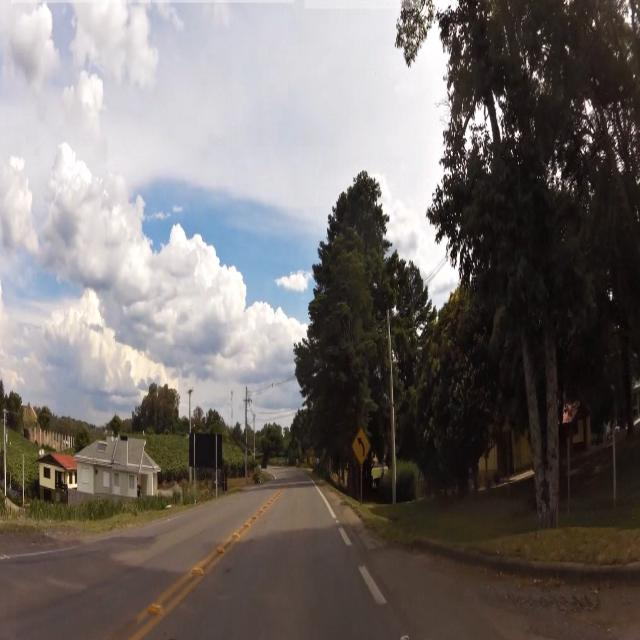A-2a: (352, 424, 375, 469)
